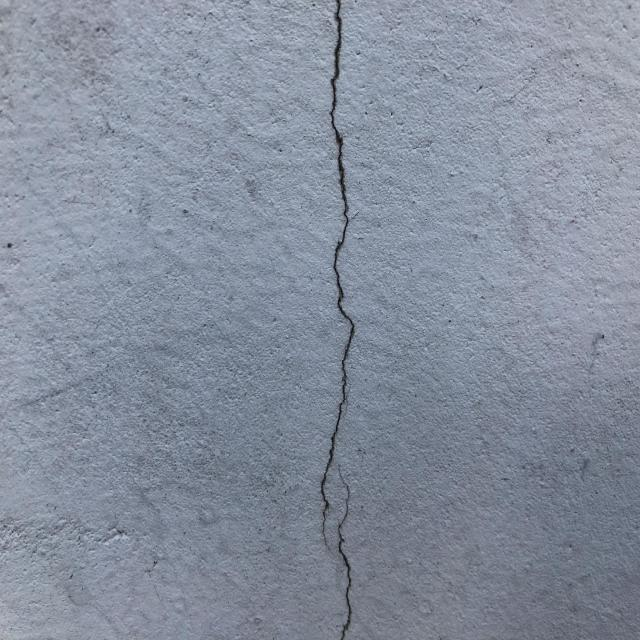SurfaceCrack: (268, 1, 405, 640)
